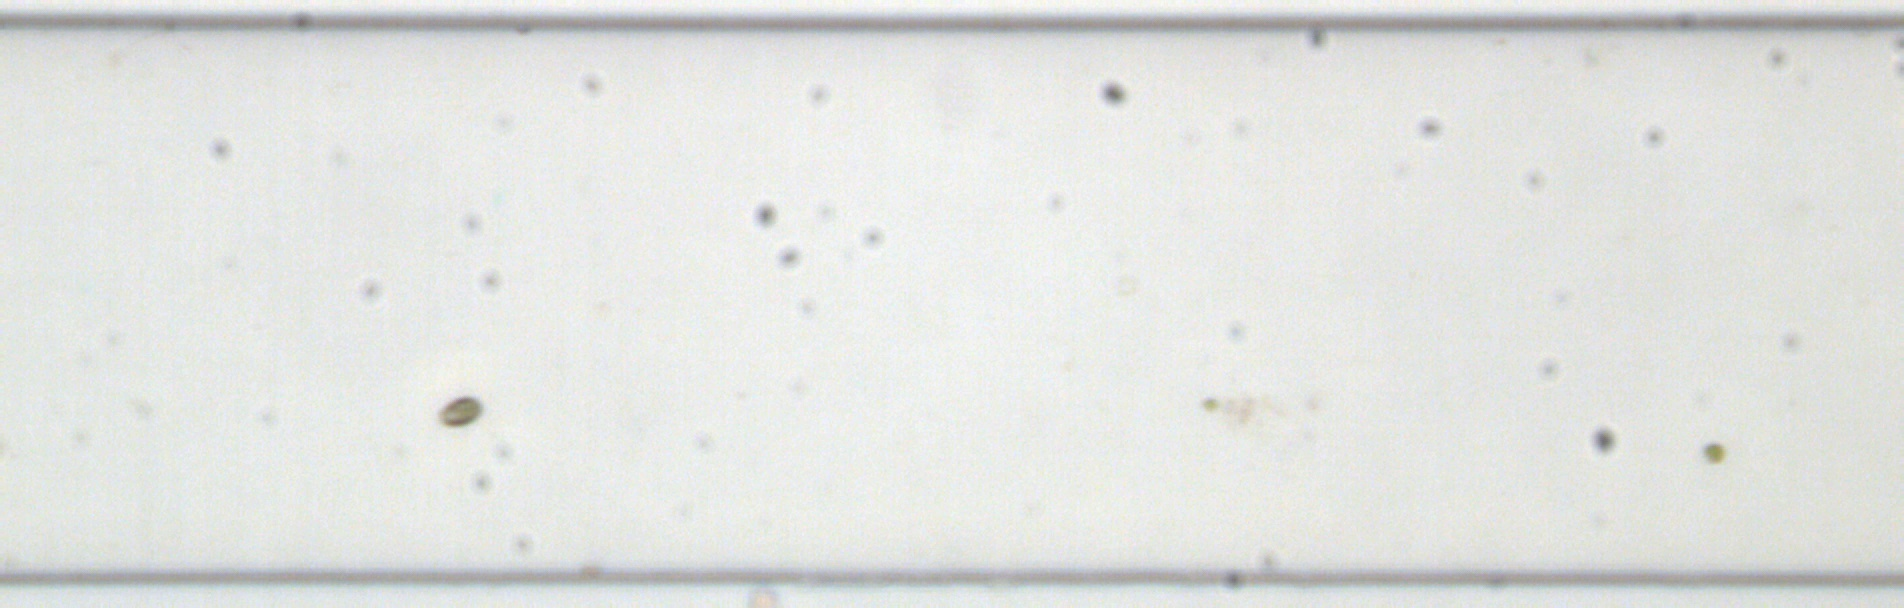Chlorella: (1701, 441, 1723, 462), (1198, 394, 1217, 411)
Dunaliella salina: (438, 391, 484, 432)
